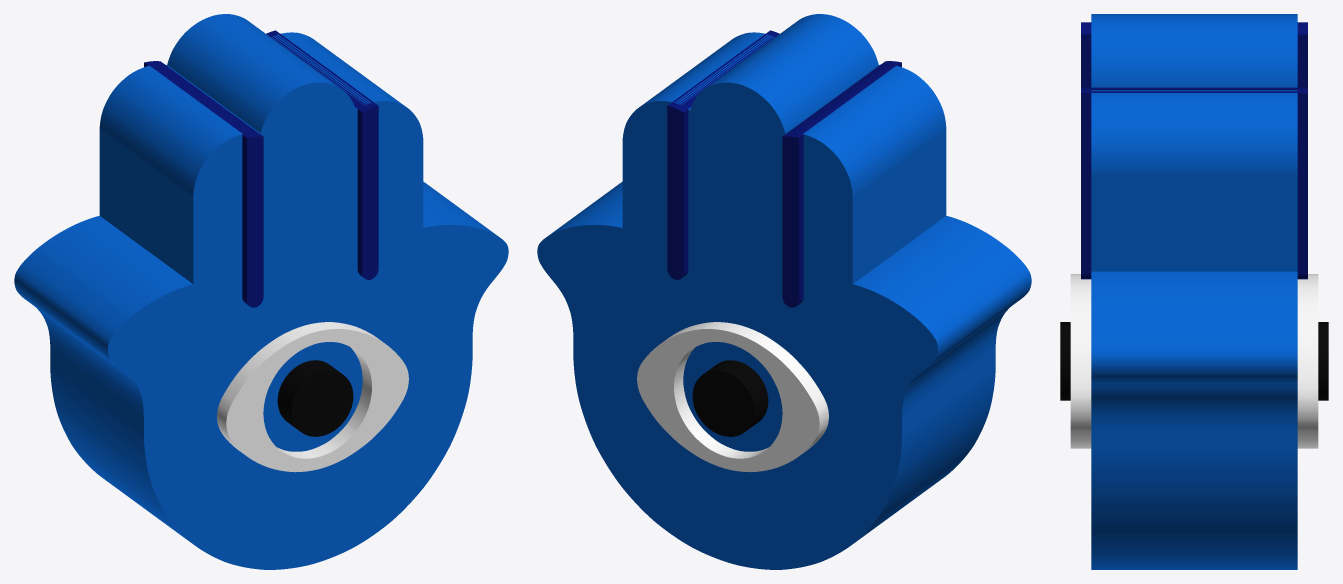
Rendered from U+1FAAC.obj.
3 renders of one model, left to right at view 1: azimuth 30°, elevation 25°; view 2: azimuth 150°, elevation 25°; view 3: azimuth 270°, elevation 25°, orthographic. The views are drawn at different scales.
Visible parts, largest first — view 1: U+1FAAC_layer00_obj00, U+1FAAC_layer02_obj00, U+1FAAC_layer01_obj00, U+1FAAC_layer03_obj00; view 2: U+1FAAC_layer00_obj00, U+1FAAC_layer02_obj00, U+1FAAC_layer01_obj00, U+1FAAC_layer03_obj00; view 3: U+1FAAC_layer00_obj00, U+1FAAC_layer02_obj00, U+1FAAC_layer01_obj00, U+1FAAC_layer03_obj00.
Part boxes in pixels (x1,y1,x2,y2): U+1FAAC_layer00_obj00: [14, 14, 508, 569]; U+1FAAC_layer02_obj00: [217, 322, 408, 472]; U+1FAAC_layer01_obj00: [144, 30, 378, 307]; U+1FAAC_layer03_obj00: [277, 360, 353, 436]; U+1FAAC_layer00_obj00: [537, 14, 1031, 569]; U+1FAAC_layer02_obj00: [637, 322, 828, 472]; U+1FAAC_layer01_obj00: [667, 30, 901, 307]; U+1FAAC_layer03_obj00: [692, 360, 768, 436]; U+1FAAC_layer00_obj00: [1091, 14, 1297, 569]; U+1FAAC_layer02_obj00: [1070, 274, 1318, 448]; U+1FAAC_layer01_obj00: [1081, 22, 1307, 279]; U+1FAAC_layer03_obj00: [1060, 322, 1328, 400].
Bounding box in the file's own units: 0.4945 × 0.5677 × 0.26.
